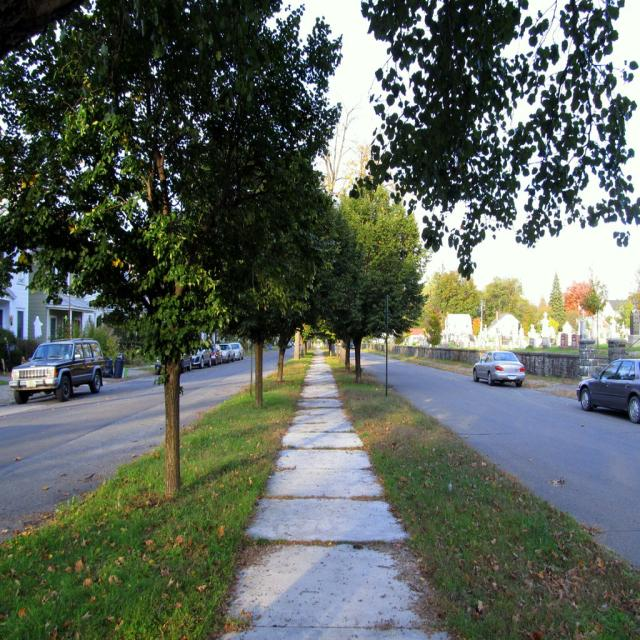car: (6, 336, 104, 401), (469, 346, 527, 384)
